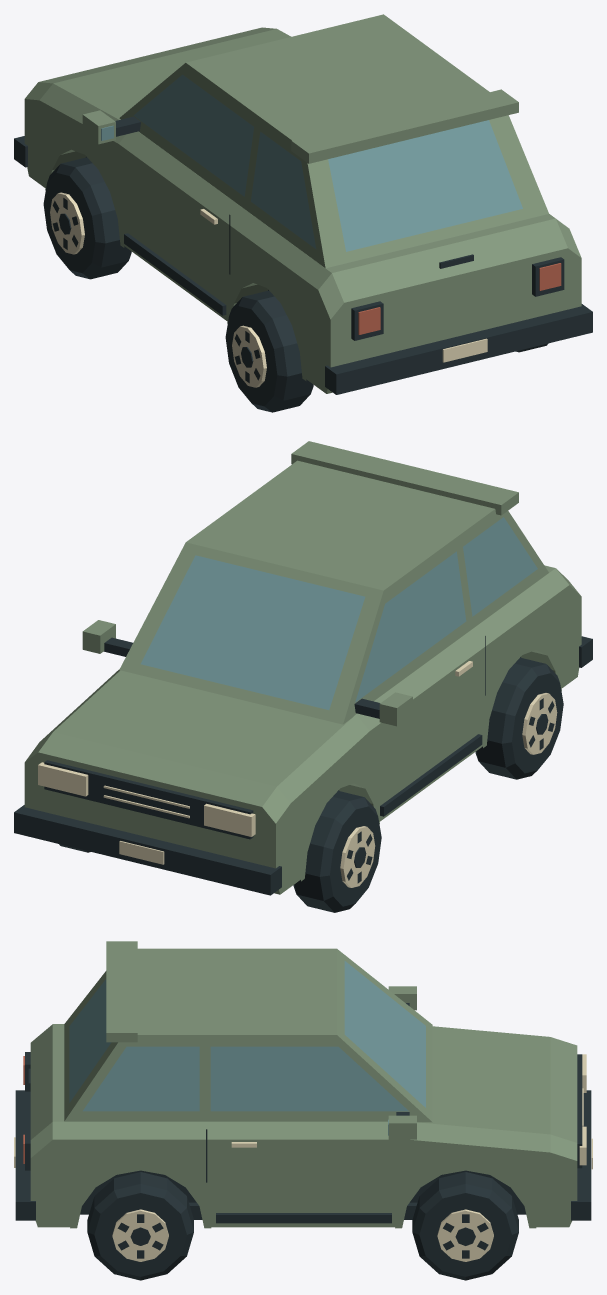
The model's file is hatchback.glb.
3 renders of one model, top to bottom at view 1: azimuth 30°, elevation 25°; view 2: azimuth 150°, elevation 25°; view 3: azimuth 270°, elevation 25°, orthographic. The views are drawn at different scales.
Parts seen in each view (by area): view 1: Body_shell_0, Body_upper_facets_1, Cabin_roof_13, Rear_window_17, Wheel_Front_Left, Wheel_Rear_Left, Rear_bumper_36, Front_side_window_19, Rear_window_frame_15, Rear_roof_spoiler_22, Cabin_side_11, Quarter_window_18 (+9 smaller); view 2: Body_upper_facets_1, Body_shell_0, Windshield_16, Cabin_roof_13, Windshield_frame_14, Wheel_Rear_Left, Wheel_Front_Left, Front_side_window_19, Front_bumper_34, Cabin_side_11, Rear_roof_spoiler_22, Quarter_window_18 (+9 smaller); view 3: Body_shell_0, Body_upper_facets_1, Cabin_roof_13, Front_side_window_21, Wheel_Rear_Right, Wheel_Front_Right, Cabin_side_12, Windshield_16, Quarter_window_20, Rear_roof_spoiler_22, Rear_window_17, Windshield_frame_14 (+10 smaller).
Boxes of the visible parts, bbox=[...] form: Body_shell_0: bbox=[24, 99, 581, 393]; Body_upper_facets_1: bbox=[25, 27, 581, 319]; Cabin_roof_13: bbox=[186, 14, 489, 140]; Rear_window_17: bbox=[328, 120, 522, 251]; Wheel_Front_Left: bbox=[43, 157, 131, 279]; Wheel_Rear_Left: bbox=[225, 290, 313, 412]; Rear_bumper_36: bbox=[325, 304, 592, 394]; Front_side_window_19: bbox=[133, 74, 253, 196]; Rear_window_frame_15: bbox=[307, 115, 548, 268]; Rear_roof_spoiler_22: bbox=[291, 89, 518, 163]; Cabin_side_11: bbox=[119, 63, 325, 267]; Quarter_window_18: bbox=[251, 131, 316, 248]; Body_upper_facets_1: bbox=[25, 565, 580, 823]; Body_shell_0: bbox=[24, 585, 581, 894]; Windshield_16: bbox=[141, 555, 365, 709]; Cabin_roof_13: bbox=[186, 460, 494, 590]; Windshield_frame_14: bbox=[119, 542, 383, 724]; Wheel_Rear_Left: bbox=[475, 657, 563, 779]; Wheel_Front_Left: bbox=[293, 791, 381, 912]; Front_side_window_19: bbox=[355, 551, 466, 702]; Front_bumper_34: bbox=[14, 805, 281, 895]; Cabin_side_11: bbox=[343, 509, 548, 724]; Rear_roof_spoiler_22: bbox=[291, 441, 518, 515]; Quarter_window_18: bbox=[463, 517, 537, 616]; Body_shell_0: bbox=[30, 1139, 577, 1227]; Body_upper_facets_1: bbox=[30, 1024, 577, 1160]; Cabin_roof_13: bbox=[137, 948, 336, 1034]; Front_side_window_21: bbox=[210, 1046, 408, 1111]; Wheel_Rear_Right: bbox=[87, 1172, 193, 1280]; Wheel_Front_Right: bbox=[412, 1172, 518, 1280]; Cabin_side_12: bbox=[64, 1035, 432, 1122]; Windshield_16: bbox=[344, 961, 425, 1107]; Quarter_window_20: bbox=[83, 1046, 199, 1111]; Rear_roof_spoiler_22: bbox=[106, 941, 137, 1042]; Rear_window_17: bbox=[69, 979, 111, 1102]; Windshield_frame_14: bbox=[337, 949, 432, 1121].
Size of the model in its own units: 2.07 by 1.64 by 3.69.
